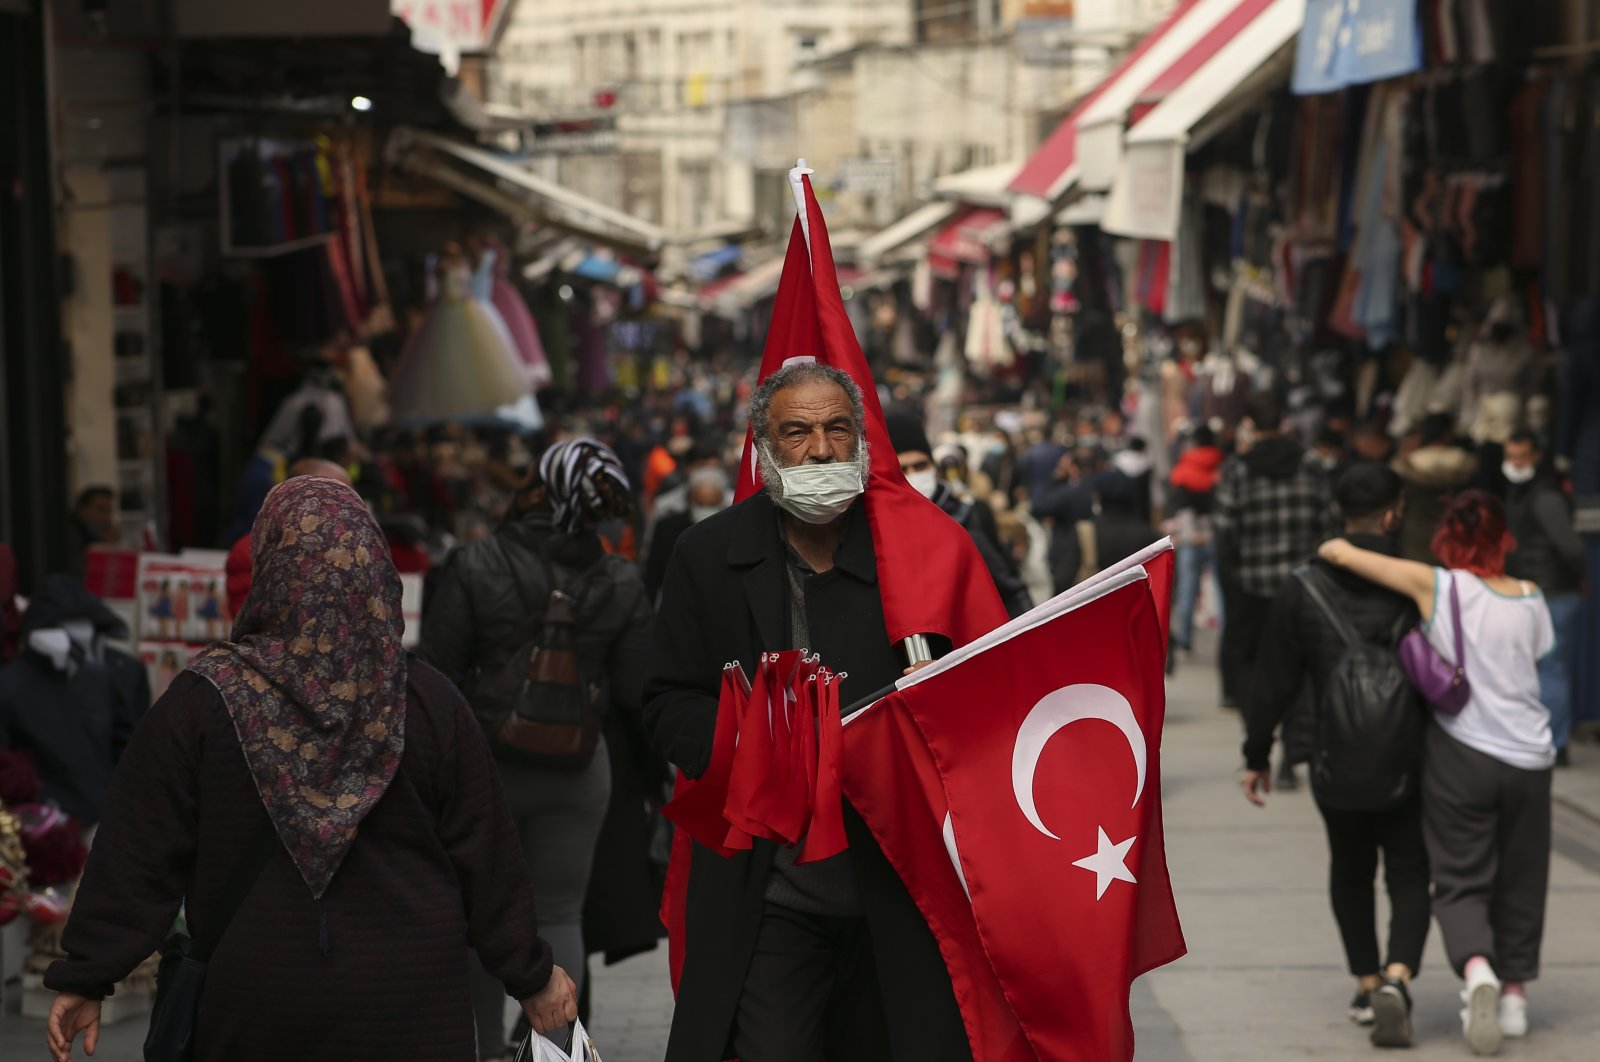with_incorrect_mask: (768, 391, 860, 519)
